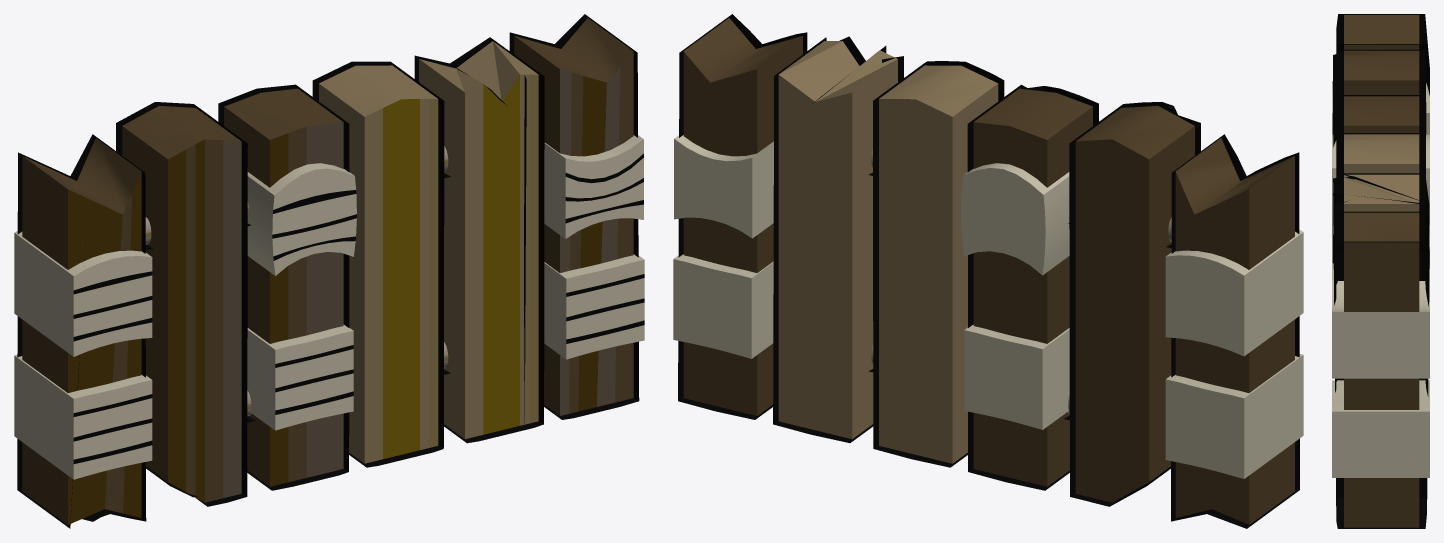
The model's file is fenceB.fbx.
3 renders of one model, left to right at view 1: azimuth 30°, elevation 25°; view 2: azimuth 150°, elevation 25°; view 3: azimuth 270°, elevation 25°, orthographic. The views are drawn at different scales.
Parts seen in each view (by area): view 1: Box007; view 2: Box007; view 3: Box007.
Boxes of the visible parts, left/top/right/bottom form: Box007: left=14, top=14, right=644, bottom=528; Box007: left=673, top=14, right=1303, bottom=528; Box007: left=1332, top=14, right=1429, bottom=528.
Size of the model in its own units: 580 by 355 by 105.
